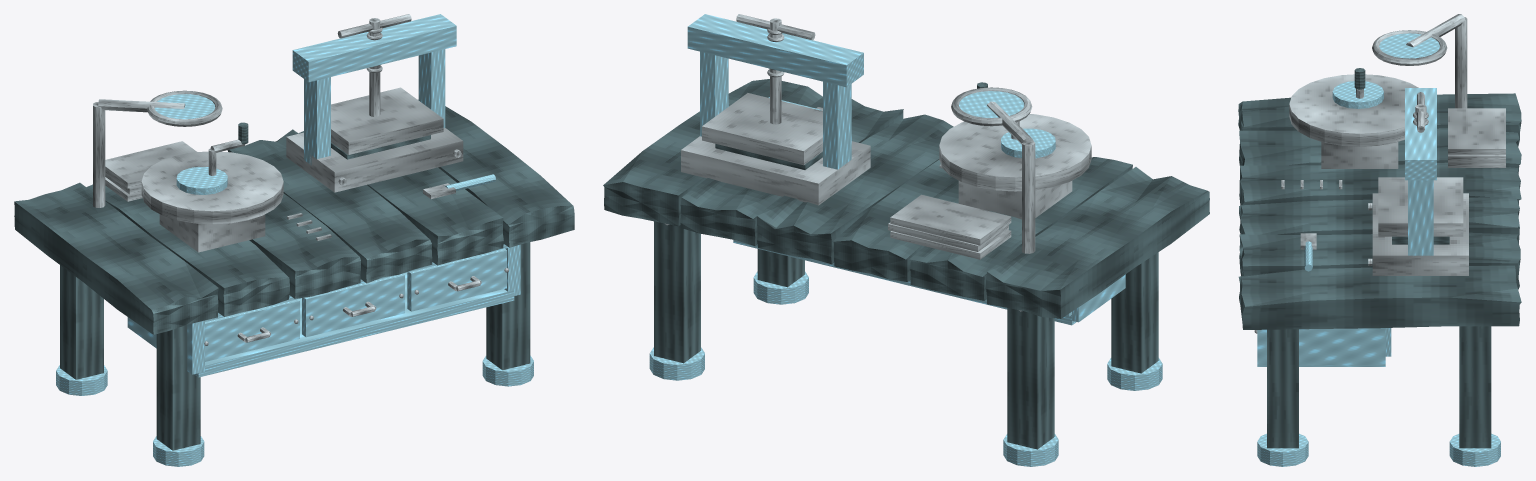
File: underworld-station-silence-table.glb
The picture shows the model from 3 angles, left to right: view 1: azimuth 30°, elevation 25°; view 2: azimuth 150°, elevation 25°; view 3: azimuth 270°, elevation 25°; orthographic projection. The views are drawn at different scales.
Visible parts, largest first — view 1: worktop-slat-rimewood-0, worktop-slat-rimewood-3, worktop-slat-rimewood-5, iceglass-lapping-wheel, worktop-slat-rimewood-4, worktop-slat-rimewood-1, worktop-slat-rimewood-2, rimewood-lamination-press-bridge, rimewood-lamination-press-bed, rimewood-lamination-press-platen, precision-drawers-rail--1, rimewood-leg--1--1 (+20 smaller); view 2: worktop-slat-rimewood-0, worktop-slat-rimewood-3, iceglass-lapping-wheel, worktop-slat-rimewood-5, rimewood-lamination-press-bridge, rimewood-leg--1-1, worktop-slat-rimewood-1, rimewood-leg-1-1, rimewood-lamination-press-bed, worktop-slat-rimewood-2, worktop-slat-rimewood-4, rimewood-lamination-press-platen (+21 smaller); view 3: worktop-slat-rimewood-5, worktop-slat-rimewood-2, worktop-slat-rimewood-3, worktop-slat-rimewood-4, iceglass-lapping-wheel, rimewood-leg-1-1, worktop-slat-rimewood-1, rimewood-leg-1--1, rimewood-lamination-press-bed, rimewood-lamination-press-platen, precision-drawers-side-1, worktop-slat-rimewood-0 (+13 smaller).
Part boxes in pixels (x1,y1,x2,y2): worktop-slat-rimewood-0: (14,182,218,334); worktop-slat-rimewood-3: (227,129,432,283); worktop-slat-rimewood-5: (418,99,574,247); iceglass-lapping-wheel: (141,151,283,224); worktop-slat-rimewood-4: (298,131,503,265); worktop-slat-rimewood-1: (86,184,289,316); worktop-slat-rimewood-2: (249,193,360,298); rimewood-lamination-press-bridge: (292,14,456,82); rimewood-lamination-press-bed: (286,128,463,192); rimewood-lamination-press-platen: (331,87,443,154); precision-drawers-rail--1: (194,272,514,377); rimewood-leg--1--1: (156,325,200,450); worktop-slat-rimewood-0: (986,167,1209,318); worktop-slat-rimewood-3: (757,114,953,264); iceglass-lapping-wheel: (939,114,1091,191); worktop-slat-rimewood-5: (603,79,822,226); rimewood-lamination-press-bridge: (687,14,863,87); rimewood-leg--1-1: (1007,308,1054,449); worktop-slat-rimewood-1: (909,157,1132,300); rimewood-leg-1-1: (654,221,700,363); rimewood-lamination-press-bed: (681,136,870,205); worktop-slat-rimewood-2: (832,160,958,281); worktop-slat-rimewood-4: (680,97,903,245); rimewood-lamination-press-platen: (702,93,822,165); worktop-slat-rimewood-5: (1238,265,1521,329); worktop-slat-rimewood-2: (1239,162,1521,205); worktop-slat-rimewood-3: (1239,196,1519,243); worktop-slat-rimewood-4: (1239,232,1520,289); iceglass-lapping-wheel: (1289,74,1418,146); rimewood-leg-1-1: (1459,326,1491,448); worktop-slat-rimewood-1: (1239,128,1521,174); rimewood-leg-1--1: (1267,329,1298,448); rimewood-lamination-press-bed: (1372,193,1468,275); rimewood-lamination-press-platen: (1378,177,1463,236); precision-drawers-side-1: (1257,328,1385,365); worktop-slat-rimewood-0: (1238,93,1521,146).
Bounding box in the file's own units: 3.03 × 2.19 × 1.77.
Materials: 4 (4 with a texture image).
